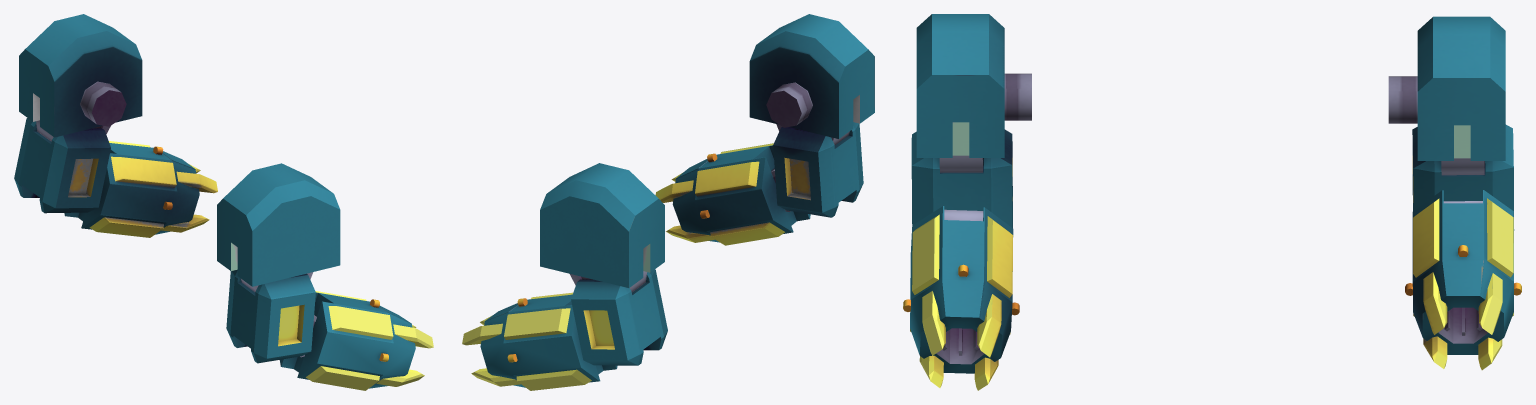
Rendered from Player_Idle19.obj.
The picture shows the model from 3 angles, left to right: view 1: azimuth 30°, elevation 25°; view 2: azimuth 150°, elevation 25°; view 3: azimuth 270°, elevation 25°; orthographic projection. The views are drawn at different scales.
Parts seen in each view (by area): view 1: Object005, Object003, Object001, Object007, Object006, Object002; view 2: Object003, Object005, Object001, Object007, Object006, Object002; view 3: Object001, Object007, Object005, Object003, Object002, Object006.
Part boxes in pixels (<box>): Object005: <box>19,14,142,137</box>; Object003: <box>217,163,340,286</box>; Object001: <box>279,291,433,390</box>; Object007: <box>64,141,217,237</box>; Object006: <box>14,118,110,213</box>; Object002: <box>226,269,315,363</box>; Object003: <box>749,14,874,138</box>; Object005: <box>540,163,664,287</box>; Object001: <box>655,143,810,245</box>; Object007: <box>462,292,617,390</box>; Object006: <box>569,269,667,365</box>; Object002: <box>773,122,863,217</box>; Object001: <box>903,206,1019,390</box>; Object007: <box>1405,190,1521,370</box>; Object005: <box>1388,16,1505,160</box>; Object003: <box>916,14,1031,157</box>; Object002: <box>911,129,1012,227</box>; Object006: <box>1412,124,1514,230</box>.
Bounding box in the file's own units: 37.08 × 43.14 × 83.7.
1 material, 1 textured.
